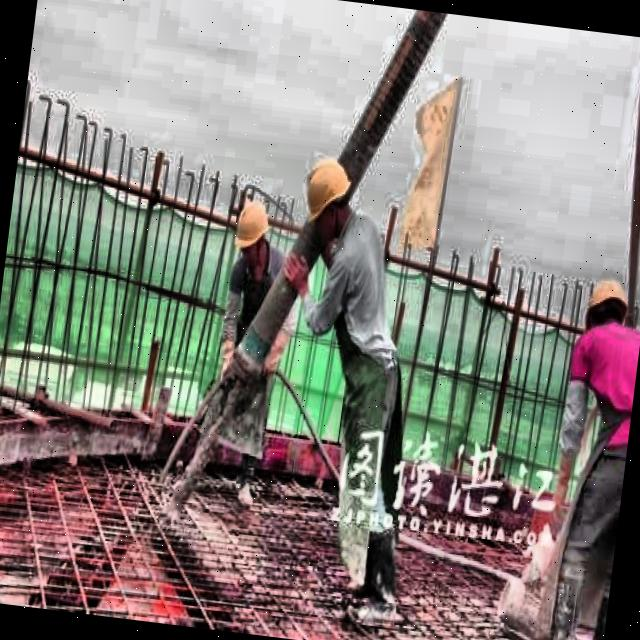helmet: (296, 151, 359, 247), (228, 192, 276, 272), (580, 272, 634, 340)
